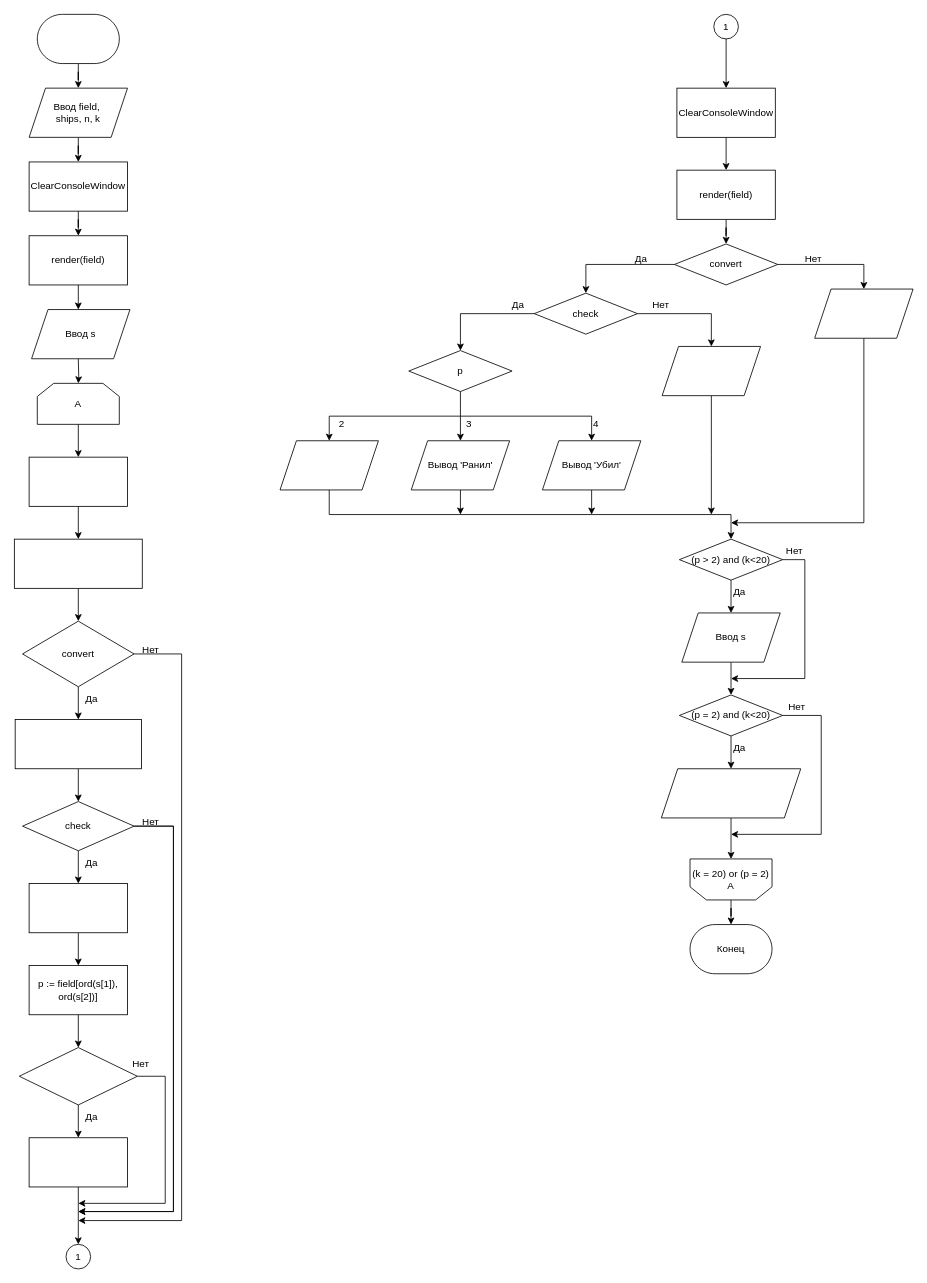
This 927x1283 diagram has some shape labels left out. The centre of each missing label's shape, as x and y in pixels:
"((p = 3) or (p = 4)) and (k<20)" belongs at (x=77, y=1076).
"ChangeField(field, s, ships)" belongs at (x=78, y=908).
"check:= CheckCordsOnField(field, s)" belongs at (x=77, y=744).
"convert:= ConvertInputToCordinate(s)" belongs at (x=78, y=563).
"Game Начало" belongs at (x=77, y=39).
"k:=k+1" belongs at (x=78, y=1162).
"p := 6" belongs at (x=78, y=481).
"Вывод 'Использованная клетка'" belongs at (x=711, y=371).
"Вывод 'Неверные координаты'" belongs at (x=863, y=313).
"Вывод 'Подтвердите ход следующего игрока'" belongs at (x=731, y=793).
"Вывод 'Промах'" belongs at (x=328, y=465).
